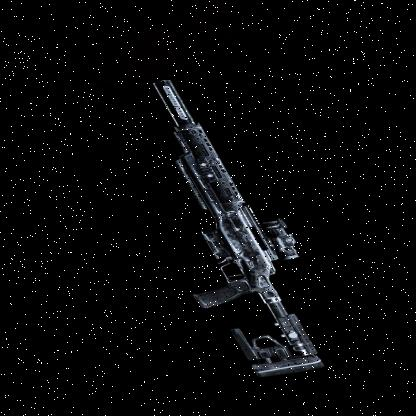rifle: (66, 66, 387, 386)
